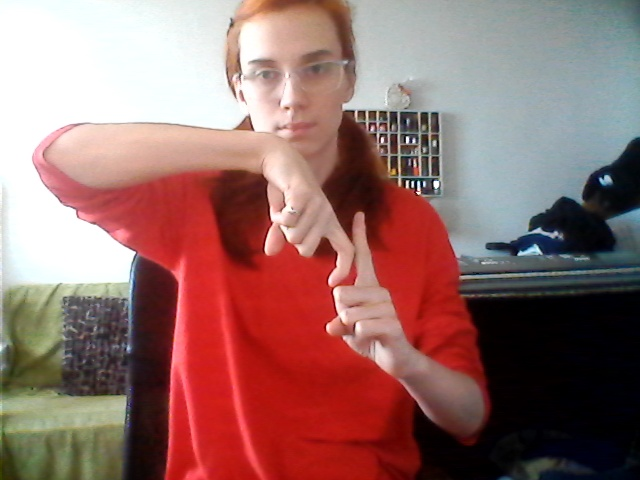k: (244, 149, 405, 376)
